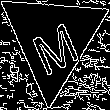M_NW: (24, 7, 82, 72)
